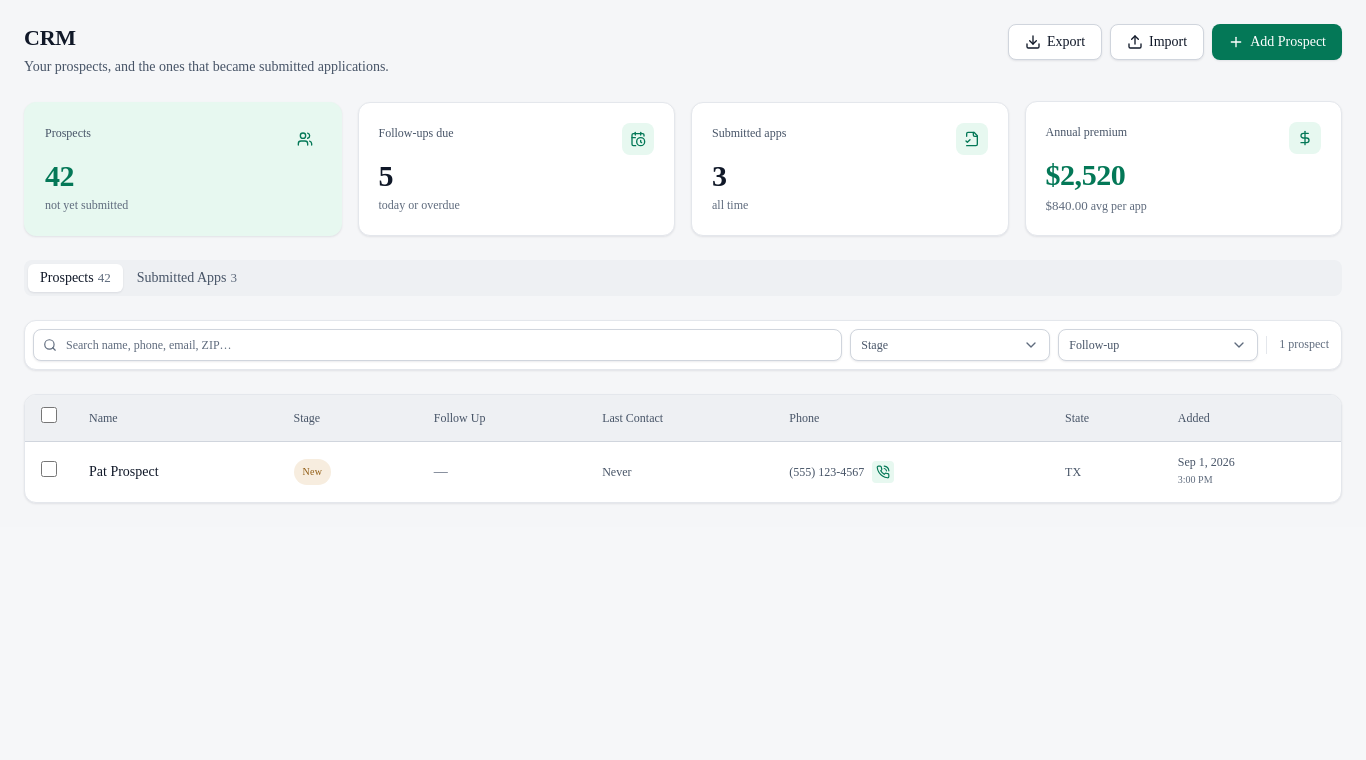
Test case: the agency CRM › lets a prospect be marked as an app submitted from their record
Click the text "Pat Prospect" at (124, 472), box [89,464,159,479]
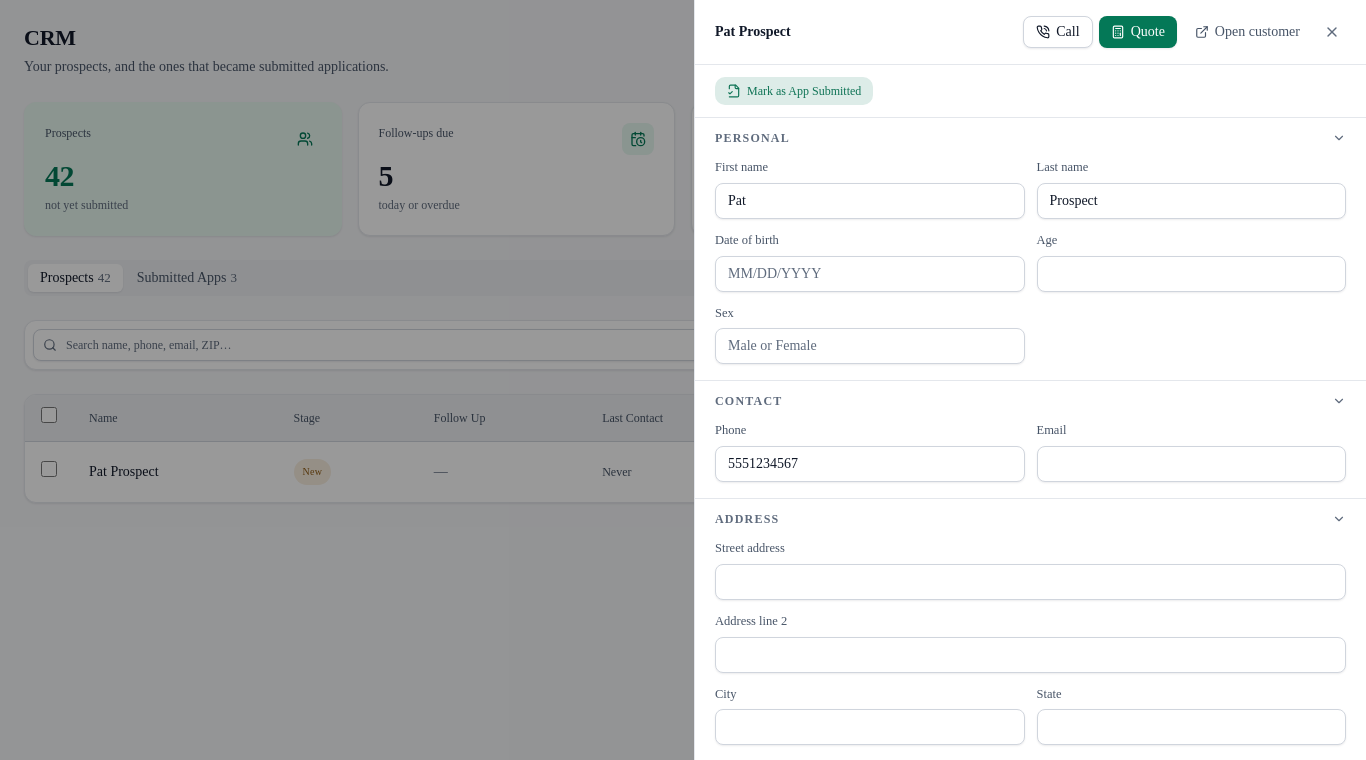
Click the button "Mark as App Submitted" at (794, 91), box [715,77,873,105]
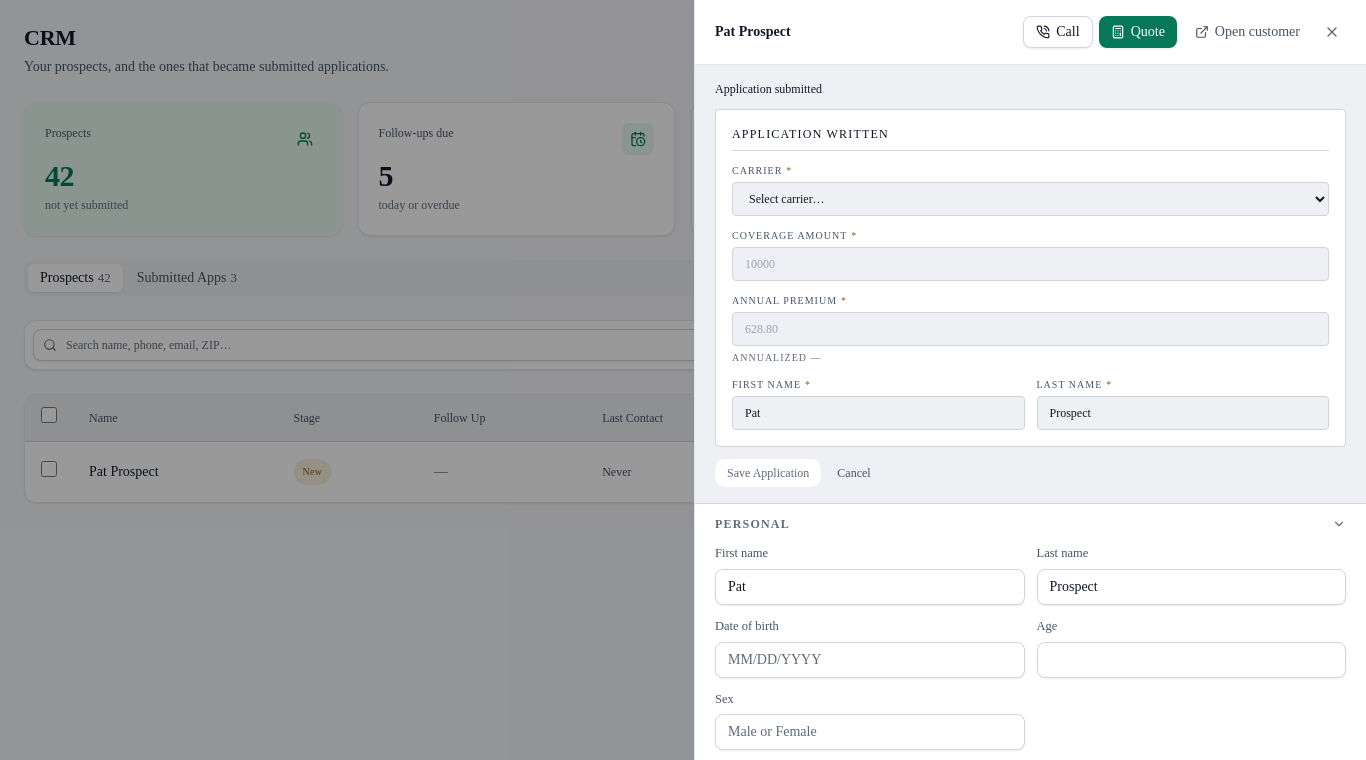
Expected: the button "Save Application" is shown, [715,459,821,487]
